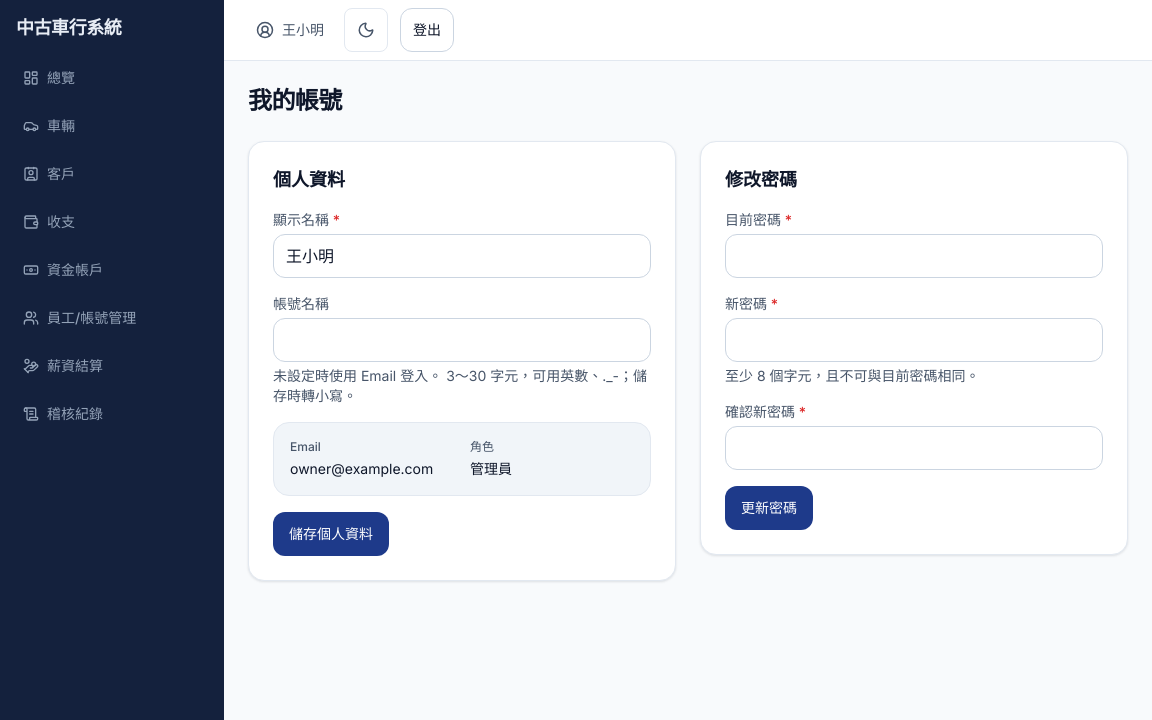
it: Account › shows password confirmation and backend field errors, then clears fields on success
Type "old-password" into the password field labelled "目前密碼 *".
click(914, 256); type("old-password")  # box [725,234,1103,278]
Type "new-password" into the password field labelled "新密碼 *".
click(914, 340); type("new-password")  # box [725,318,1103,362]
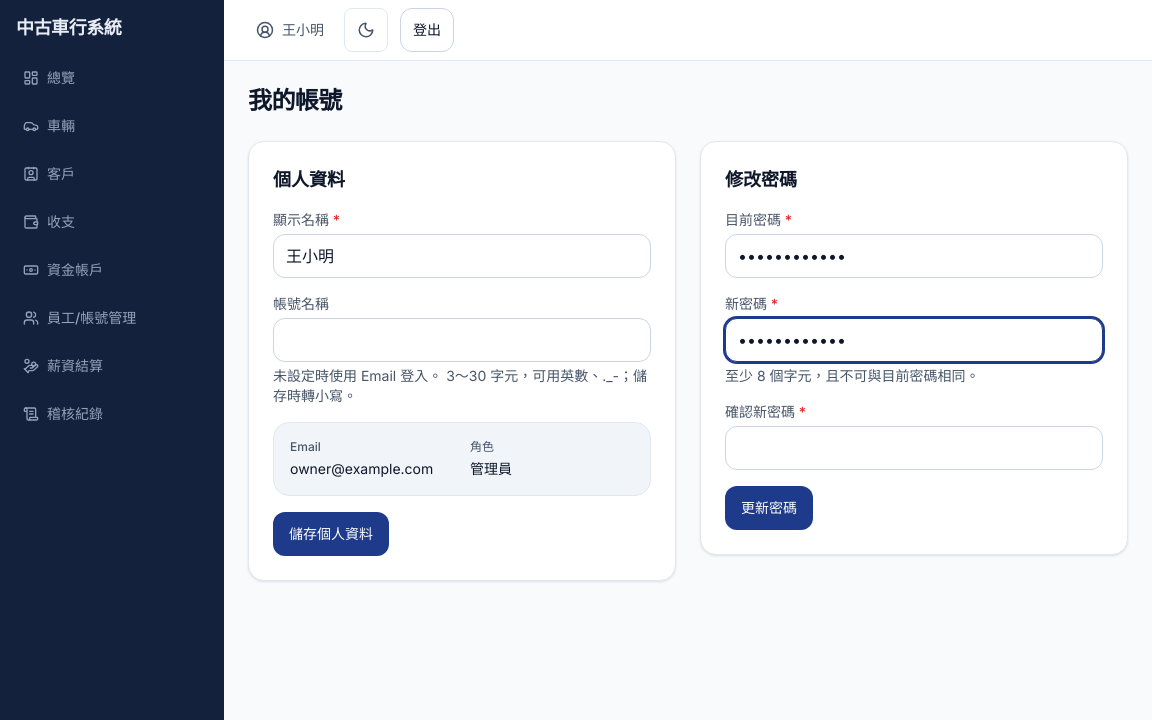
Type "different-password" into the password field labelled "確認新密碼 *".
click(914, 448); type("different-password")  # box [725,426,1103,470]
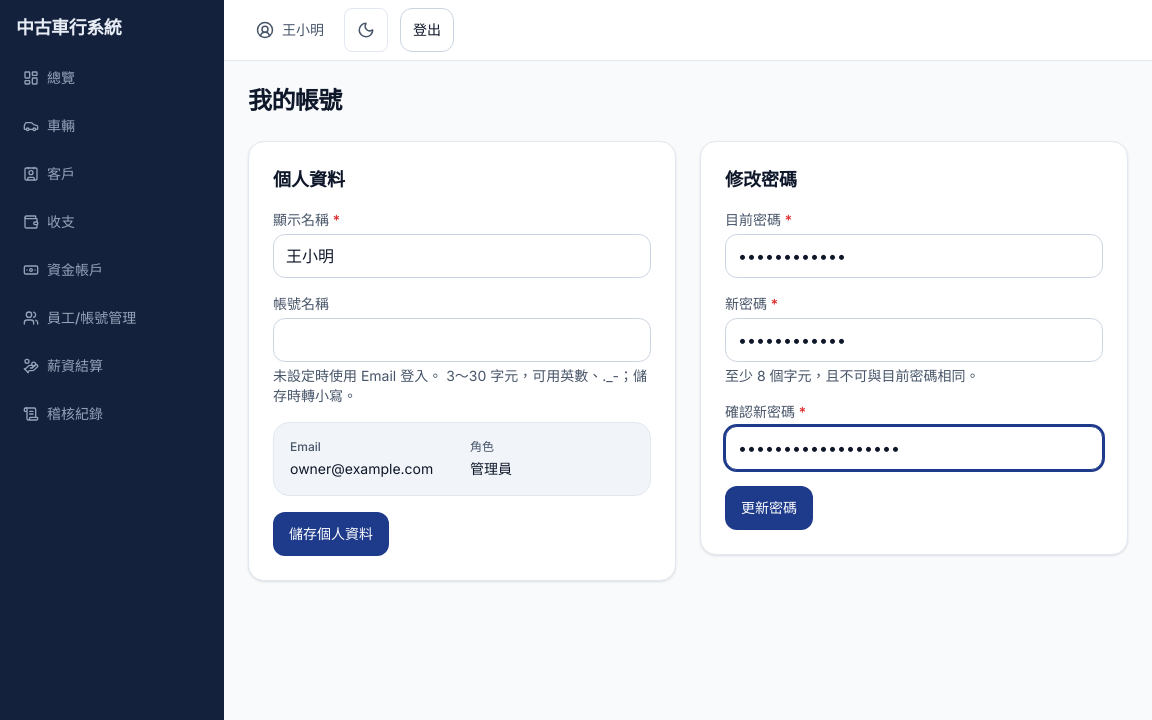
Click the button "更新密碼".
click(769, 508)  # box [725,486,813,530]
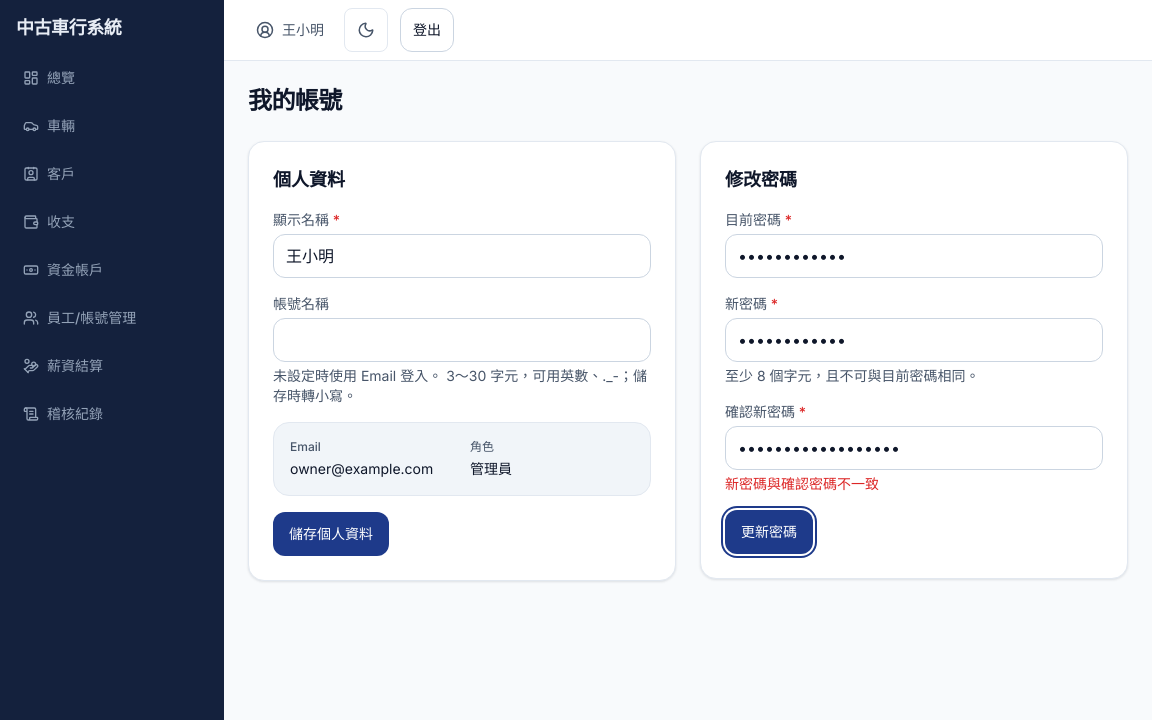
Now the text "新密碼與確認密碼不一致" is shown, box [725,475,879,492]
Type "new-password" into the password field labelled "確認新密碼 *".
click(914, 448); type("new-password")  # box [725,426,1103,470]
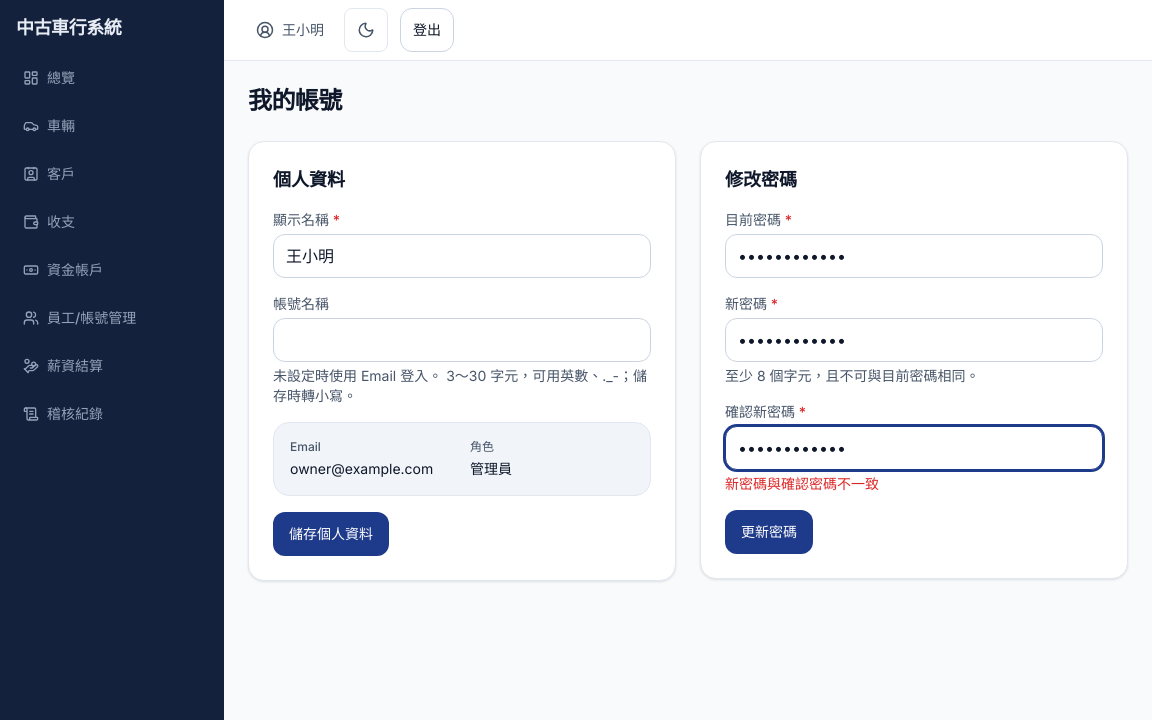
Click the button "更新密碼".
click(769, 532)  # box [725,510,813,554]
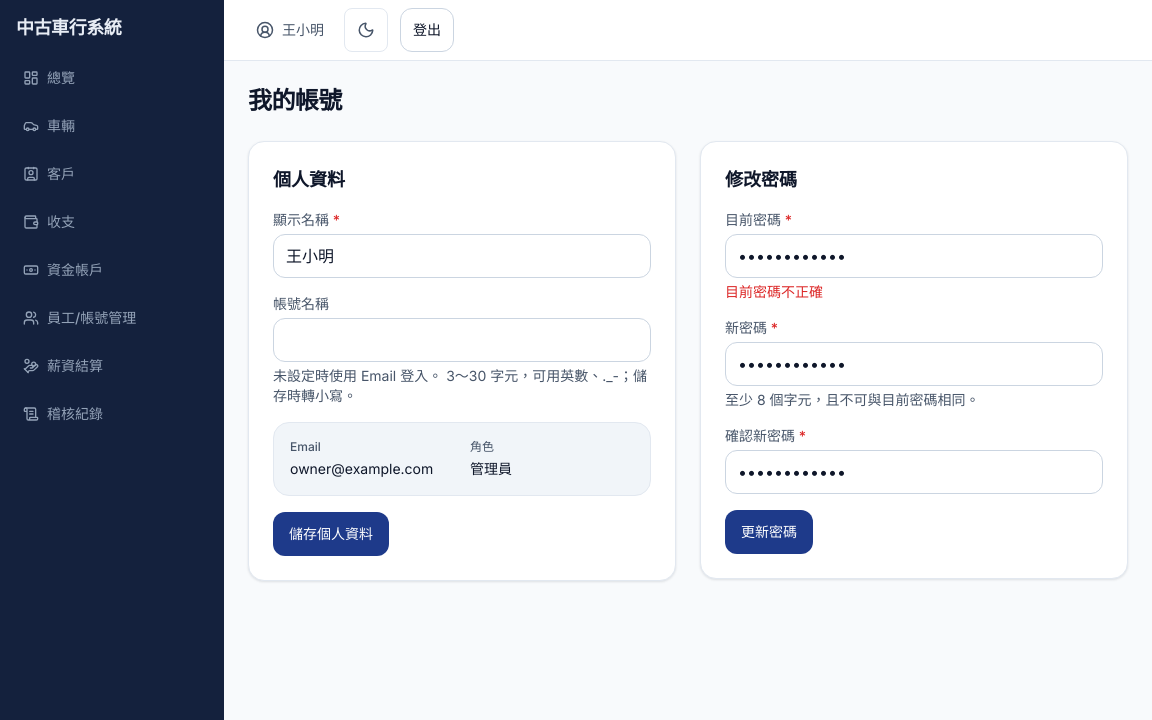
Now the text "目前密碼不正確" is shown, box [725,283,823,300]
Click the button "更新密碼".
click(769, 532)  # box [725,510,813,554]
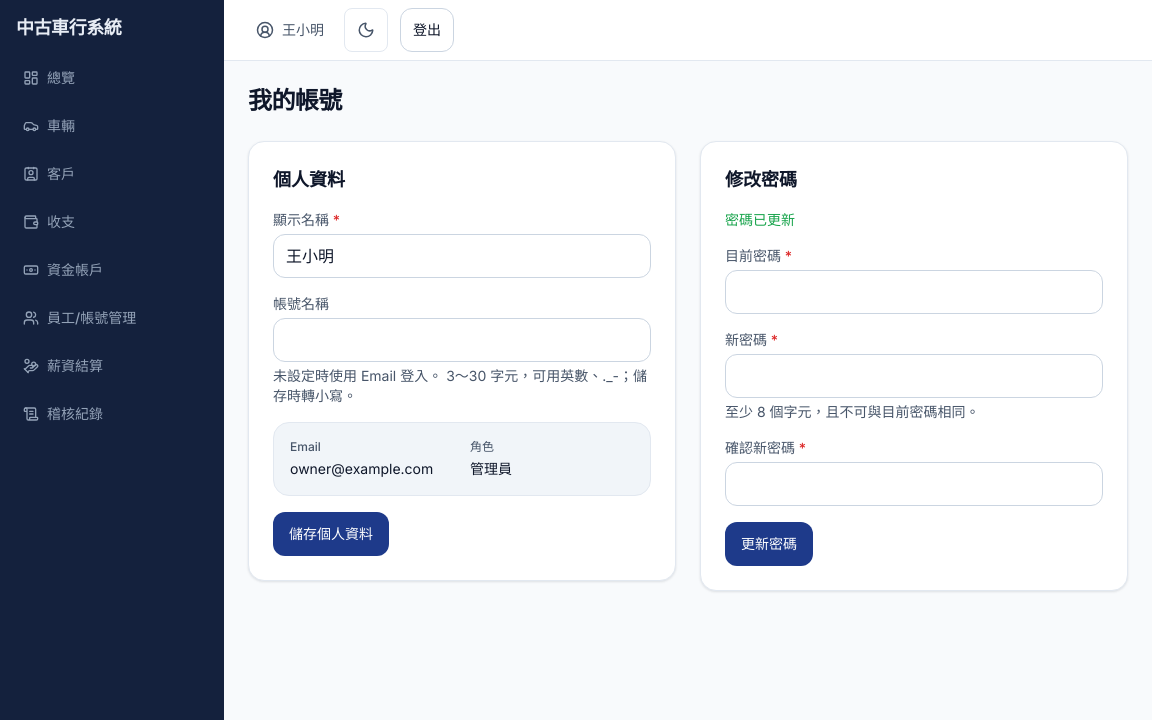
Now the text "密碼已更新" is shown, box [725,211,795,228]
Now the password field labelled "目前密碼 *" is empty, box [725,270,1103,314]
Now the password field labelled "新密碼 *" is empty, box [725,354,1103,398]
